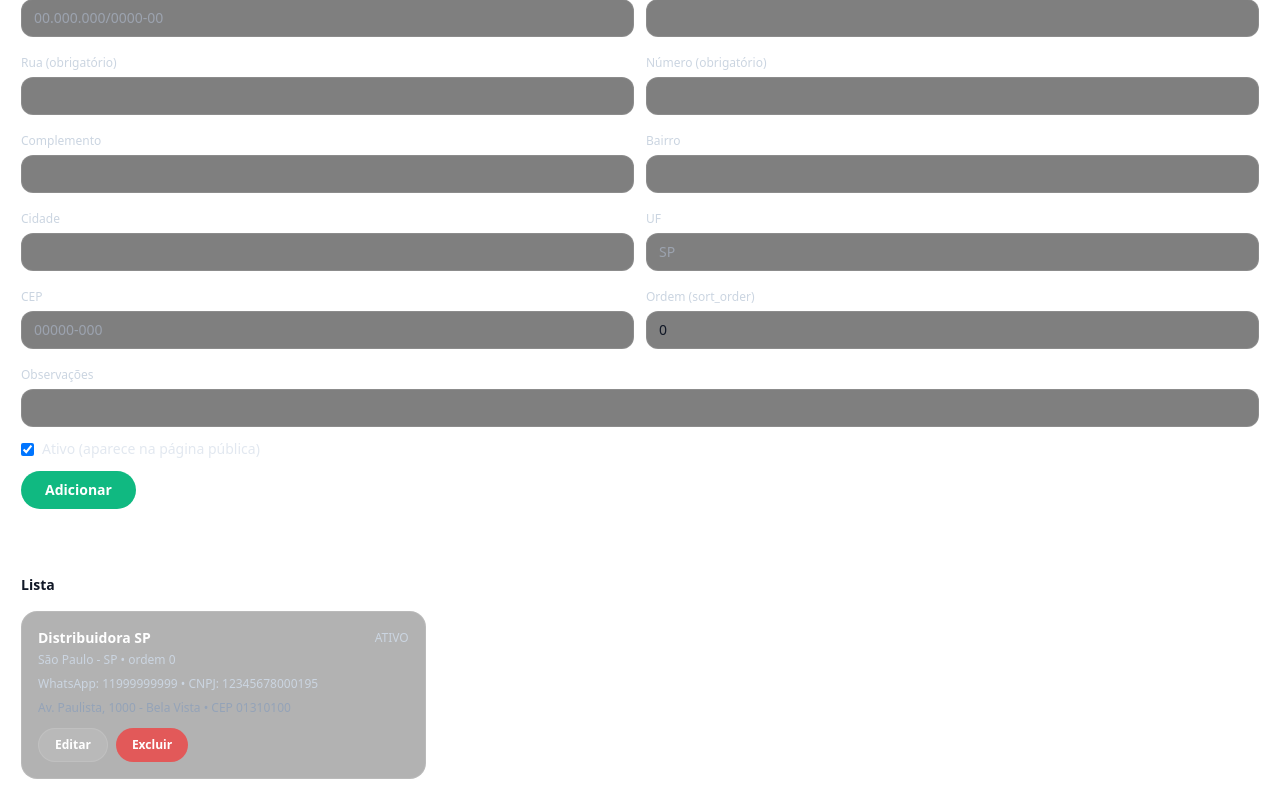
RepresentativeForm › exclusão de representante › exibe mensagem de erro quando DEL falha
This screenshot has width=1280, height=800.
(page scrolled)
Expected: the text "Distribuidora SP" is shown, [38,628,151,648]
Click the button "Excluir" at [152, 745], box [116,728,188,762]
(page scrolled)
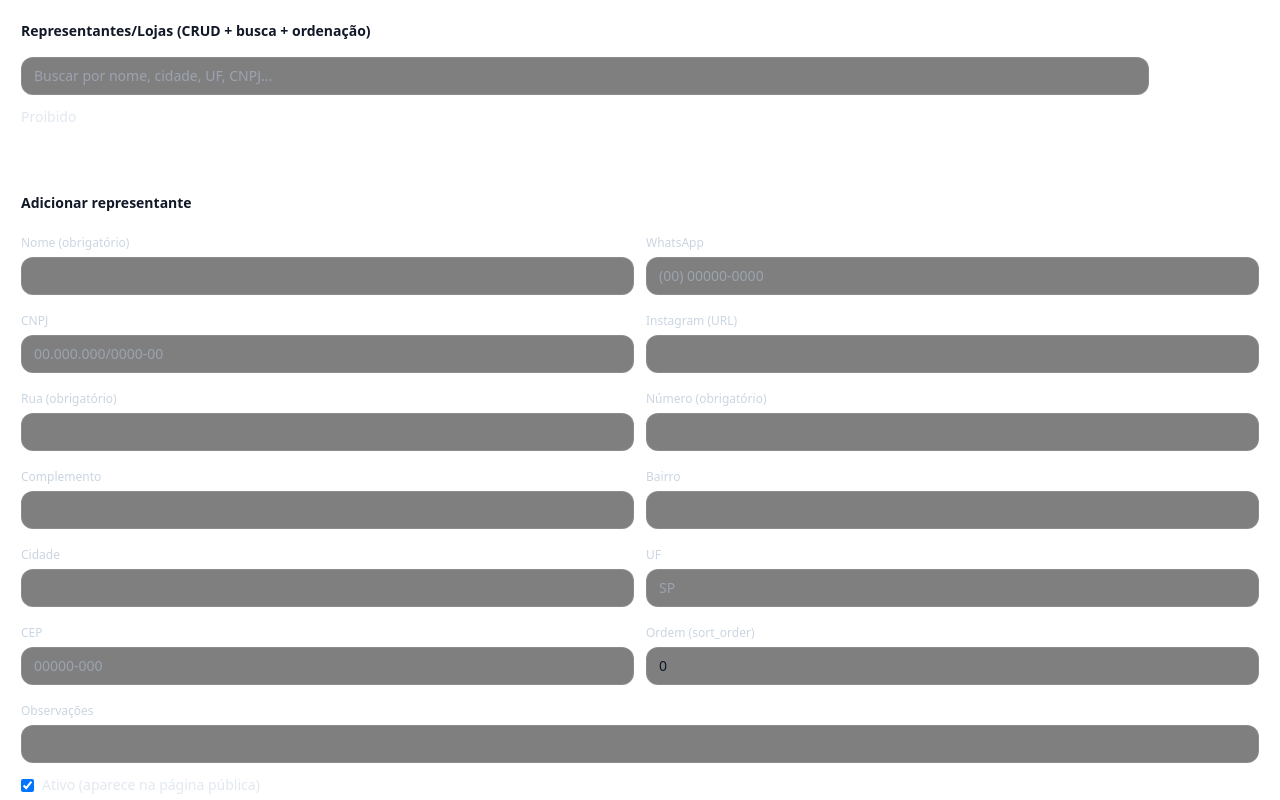
Now the text "Proibido" is shown, box [21,107,76,126]
